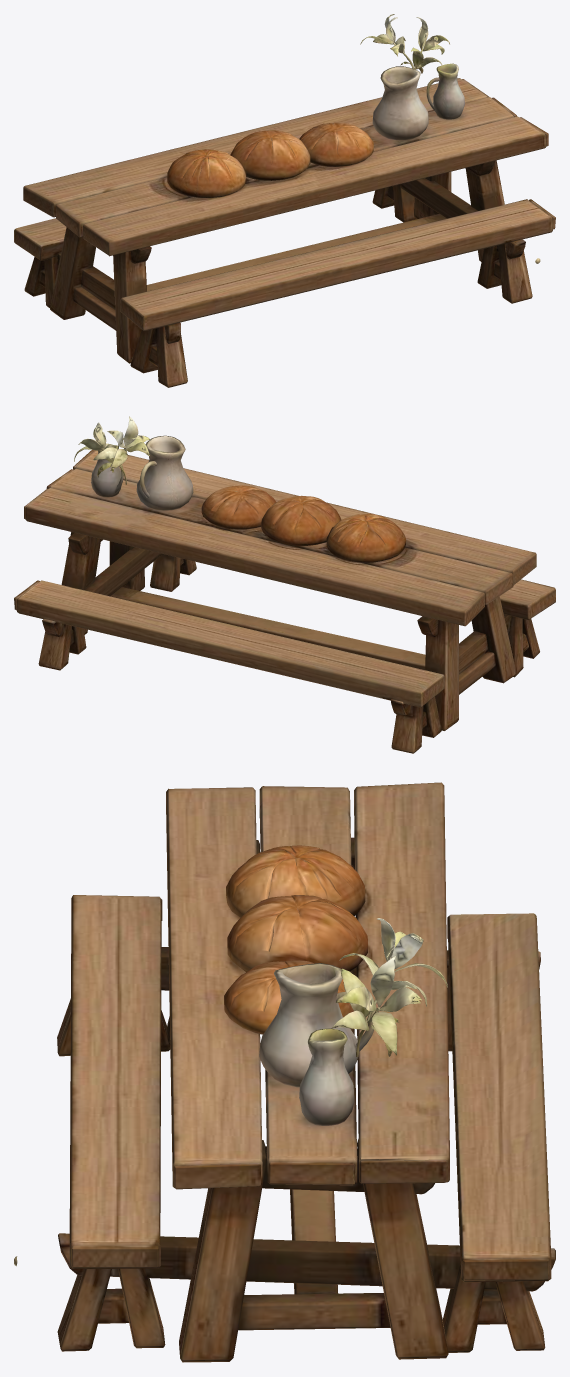
File: act1-a11-3-refectory-table.glb
3 views of the same model, one above another, from view 1: azimuth 30°, elevation 25°; view 2: azimuth 150°, elevation 25°; view 3: azimuth 270°, elevation 25° (orthographic). The views are drawn at different scales.
Parts seen in each view (by area): view 1: act1-a11-3-refectory-table; view 2: act1-a11-3-refectory-table; view 3: act1-a11-3-refectory-table.
Part boxes in pixels (left/top/right/bottom): act1-a11-3-refectory-table: left=14, top=14, right=555, bottom=387; act1-a11-3-refectory-table: left=14, top=416, right=555, bottom=753; act1-a11-3-refectory-table: left=14, top=782, right=555, bottom=1362.
Bounding box in the file's own units: 4.32 × 2.07 × 2.57.
1 material, 1 textured.
